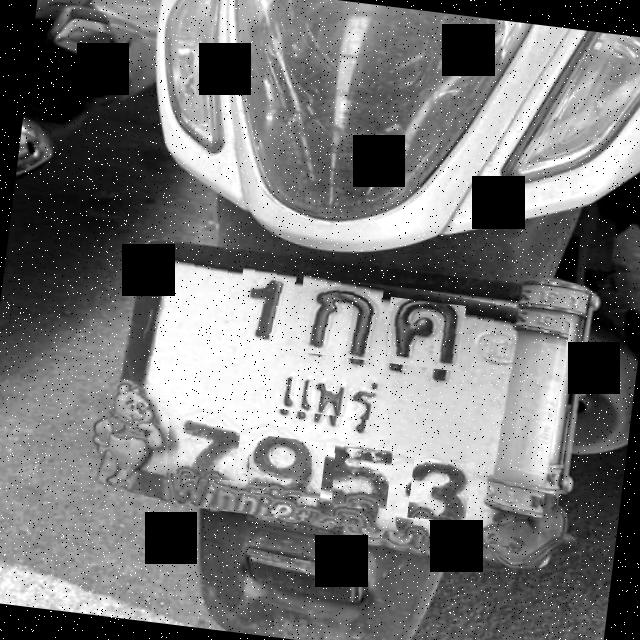letters: (294, 273, 384, 361), (382, 296, 467, 372), (244, 434, 327, 501), (234, 265, 296, 350), (162, 416, 241, 480), (406, 454, 474, 524), (328, 442, 392, 512)
license-plate: (126, 242, 570, 547)
province: (273, 358, 393, 422)
